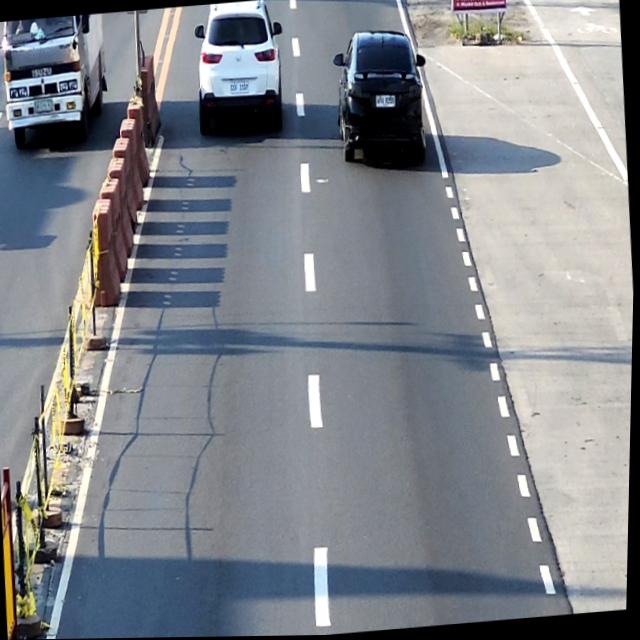Car: (329, 26, 434, 173), (190, 0, 289, 137)
License-Plate: (376, 95, 396, 109), (230, 81, 250, 95), (35, 100, 53, 112)
Truck: (0, 13, 111, 149)
